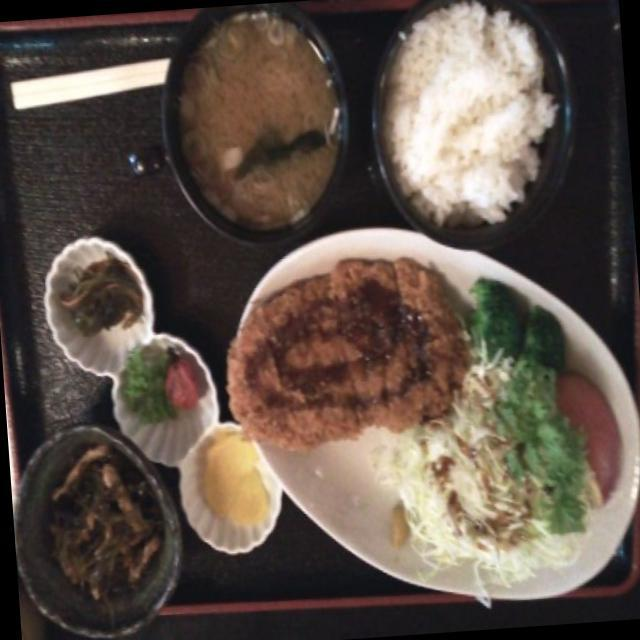Rice: (376, 2, 560, 239)
